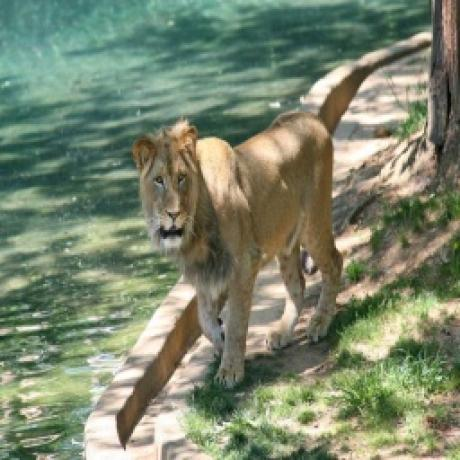Lion: (131, 114, 346, 387)
